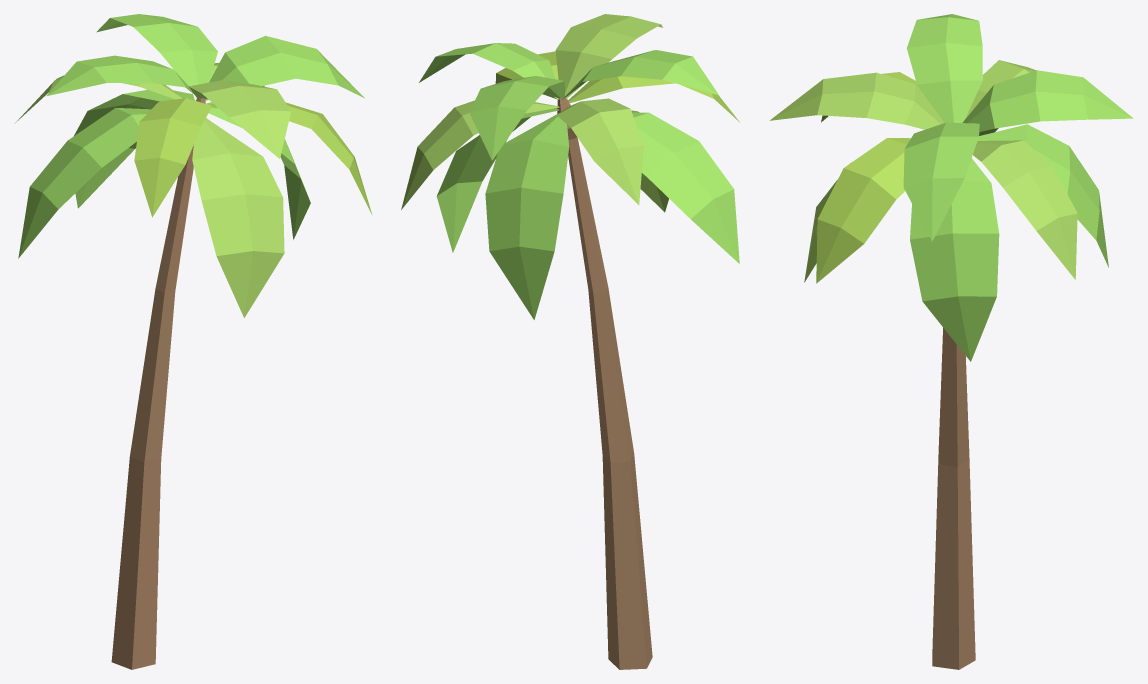
Rendered from Palm_Tree_OneSided_l_02.fbx.
3 views of the same model, side by side, from view 1: azimuth 30°, elevation 25°; view 2: azimuth 150°, elevation 25°; view 3: azimuth 270°, elevation 25° (orthographic). The views are drawn at different scales.
Visible parts, largest first — view 1: Palm_Tree_OneSided_l_02; view 2: Palm_Tree_OneSided_l_02; view 3: Palm_Tree_OneSided_l_02.
Part boxes in pixels (x1,y1,x2,y2): Palm_Tree_OneSided_l_02: (15, 14, 372, 669); Palm_Tree_OneSided_l_02: (401, 14, 739, 669); Palm_Tree_OneSided_l_02: (769, 14, 1133, 669).
Size of the model in its own units: 499 by 864 by 459.
